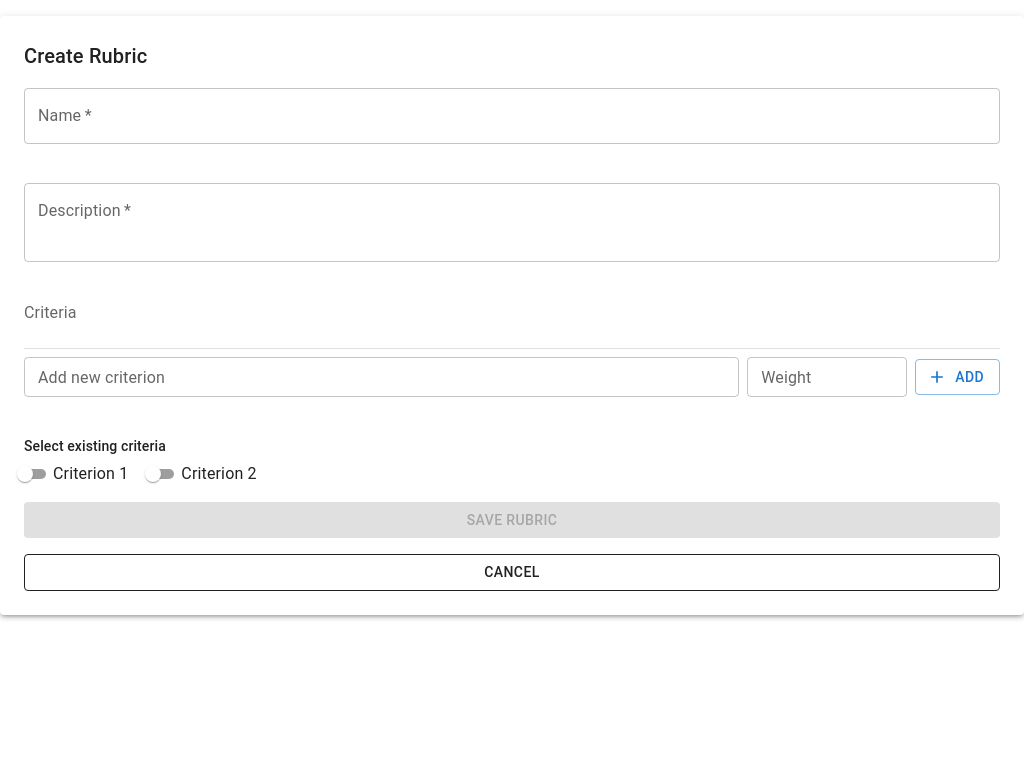
Scenario: RubricForm › validates criteria selection
This screenshot has width=1024, height=768.
Type "Test Rubric" into the field labelled "Name *" at (512, 116), box x1=24 y1=88 x2=1000 y2=144
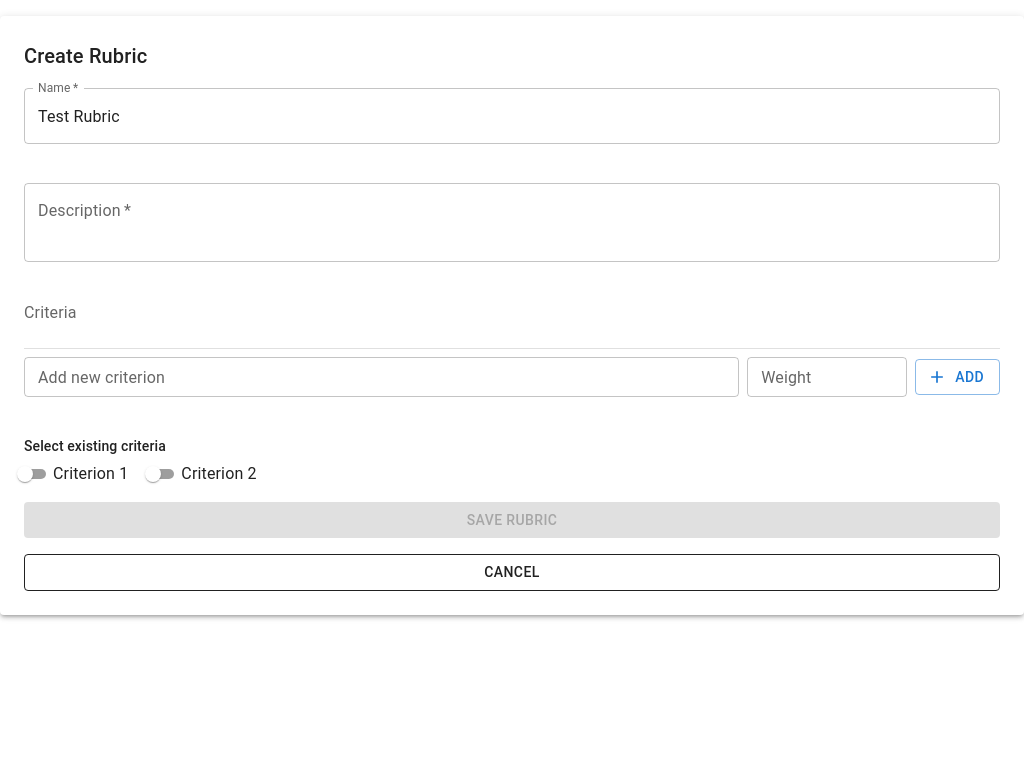
Type "Test Description" into the text box labelled "Description *" at (512, 222), box x1=38 y1=199 x2=986 y2=245
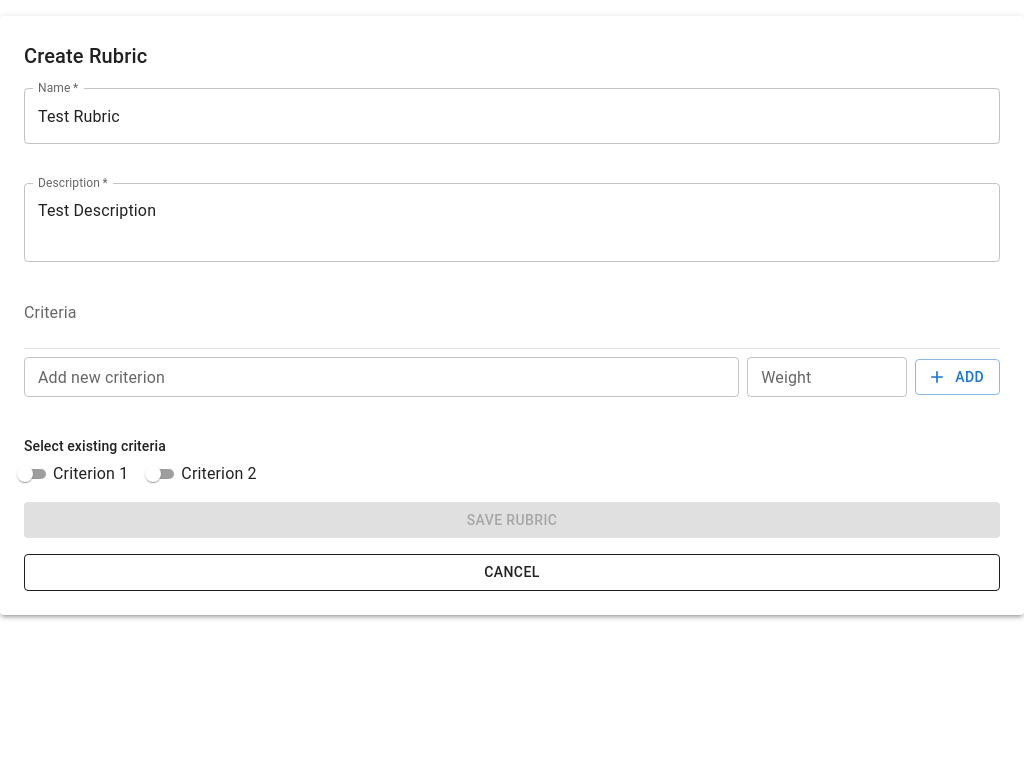
# Toggle a criterion on then off to mark criteria as touched with none selected
Click the checkbox labelled "Criterion 1" at (71, 474), box x1=13 y1=462 x2=128 y2=486
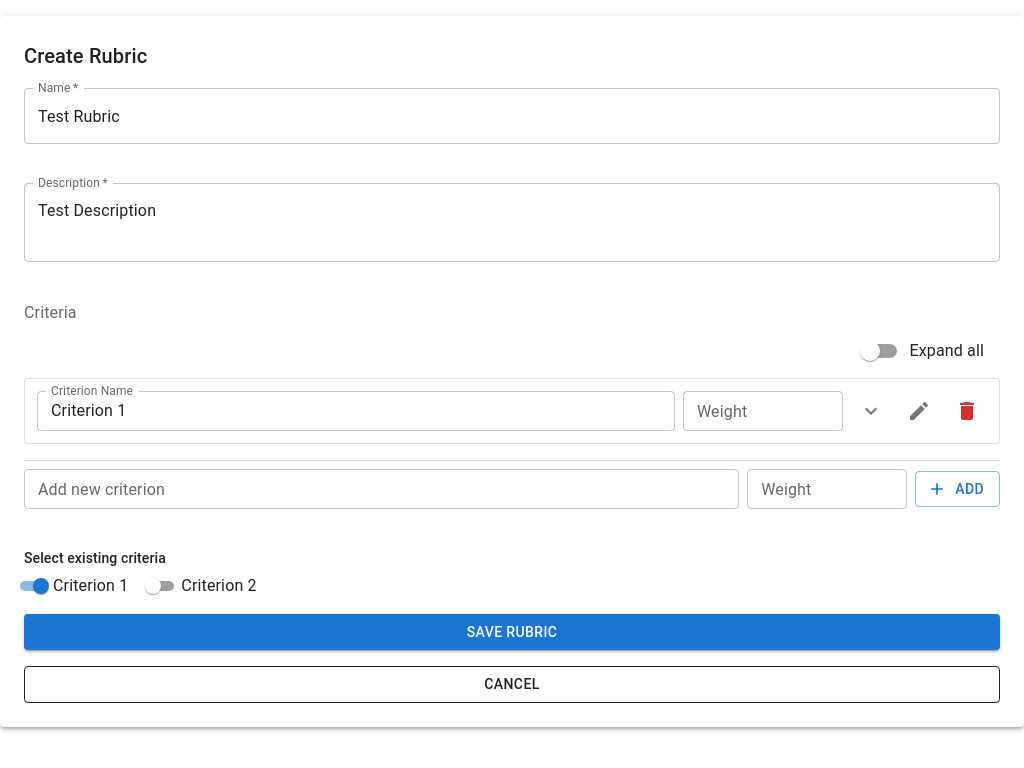
Click the checkbox labelled "Criterion 1" at (71, 586), box x1=13 y1=574 x2=128 y2=598
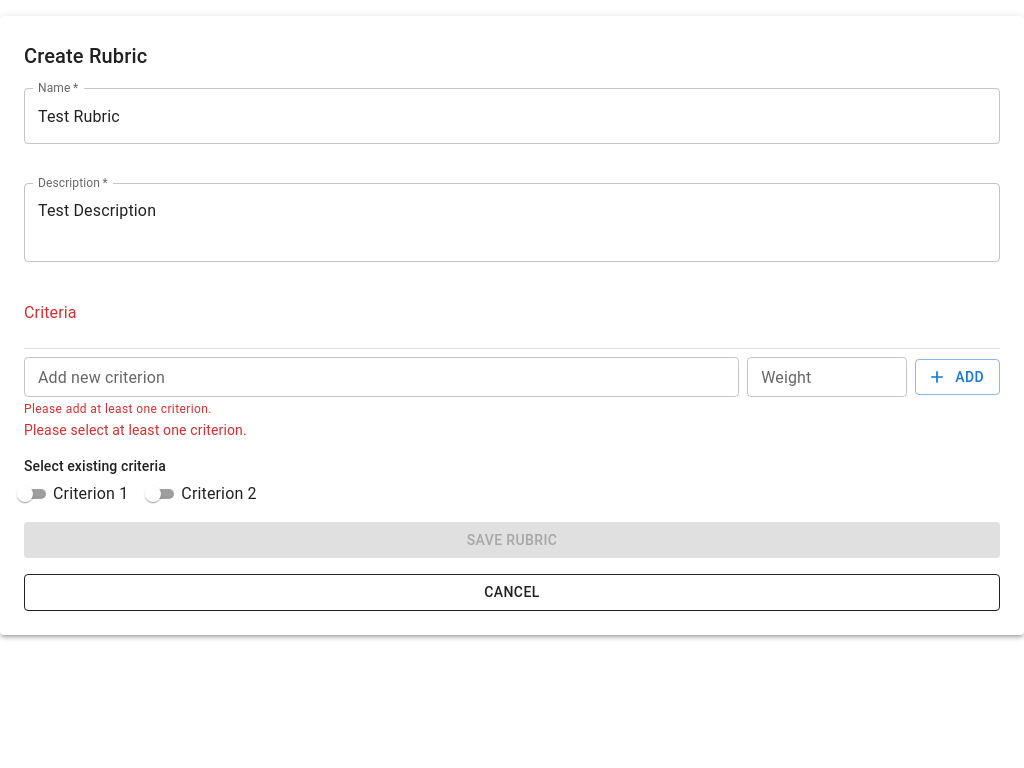
Expected: the text "Please select at least one criterion." is shown, x1=24 y1=422 x2=247 y2=438
